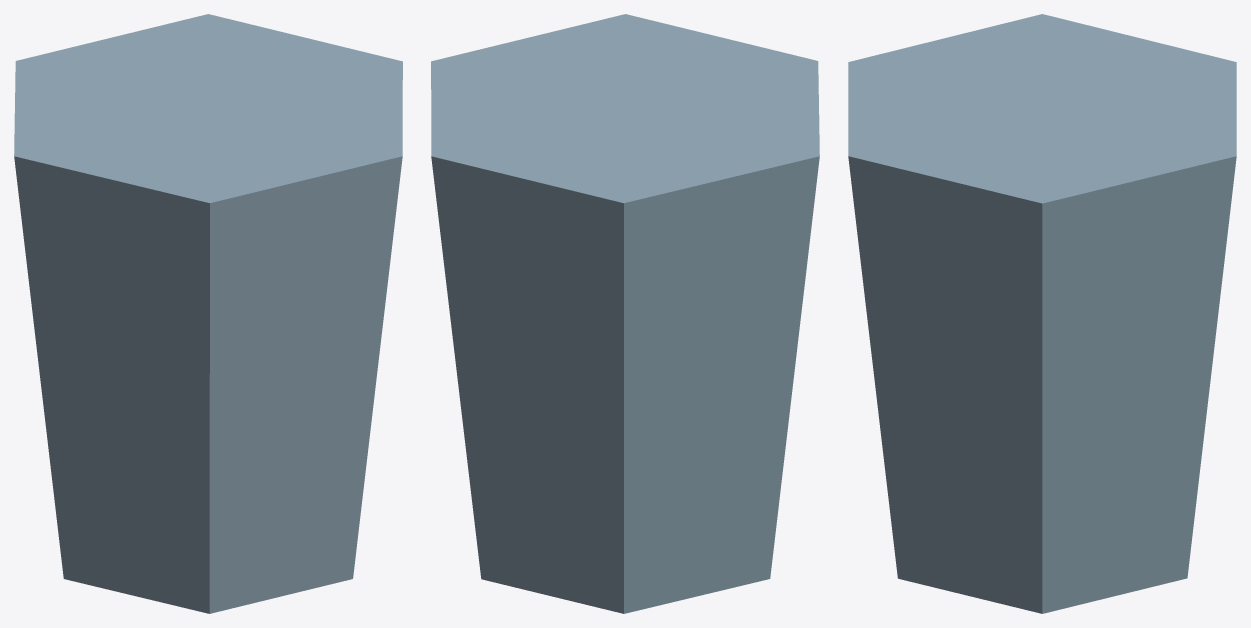
The model's file is HangingLight_Glass.fbx.
3 views of the same model, side by side, from view 1: azimuth 30°, elevation 25°; view 2: azimuth 150°, elevation 25°; view 3: azimuth 270°, elevation 25° (orthographic).
Parts seen in each view (by area): view 1: pCube374; view 2: pCube374; view 3: pCube374.
Part boxes in pixels (box(x1,y1,x2,y2)): pCube374: box(14, 14, 402, 613); pCube374: box(431, 14, 819, 613); pCube374: box(848, 14, 1236, 613).
Size of the model in its own units: 0.3617 by 0.3866 by 0.3132.
